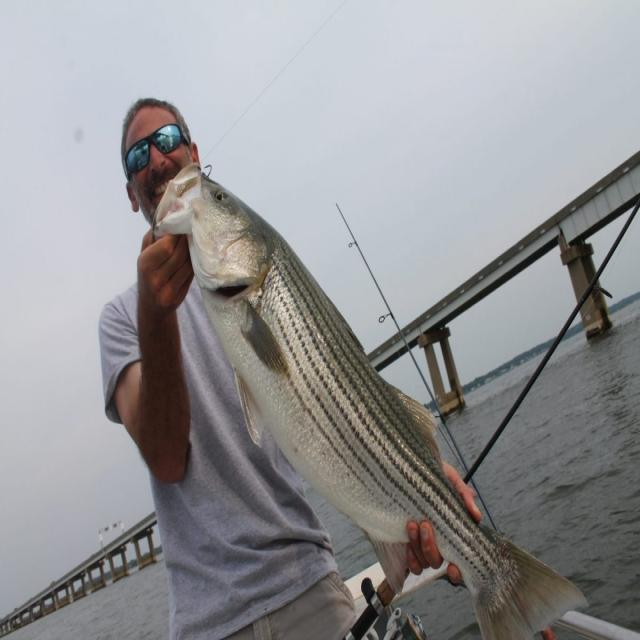Bass - Striped: (154, 164, 586, 638)
